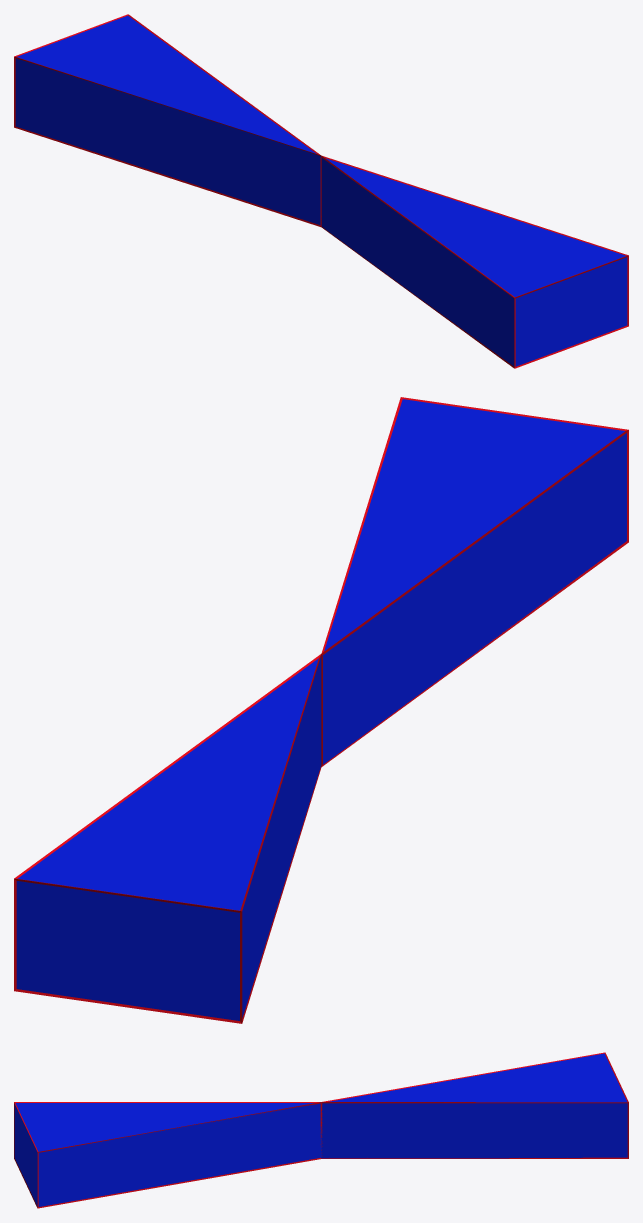
3 renders of one model, top to bottom at view 1: azimuth 30°, elevation 25°; view 2: azimuth 150°, elevation 25°; view 3: azimuth 270°, elevation 25°, orthographic. The views are drawn at different scales.
Visible parts, largest first — view 1: L7_Cylinder_F4; view 2: L7_Cylinder_F4; view 3: L7_Cylinder_F4.
Boxes of the visible parts, x1,y1,x2,y2 form: L7_Cylinder_F4: (14, 14, 628, 368); L7_Cylinder_F4: (14, 397, 628, 1023); L7_Cylinder_F4: (14, 1052, 628, 1208).
Bounding box in the file's own units: 769 × 205 × 2003.
